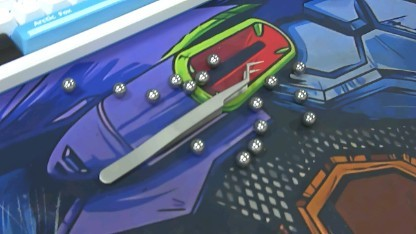ironball: (243, 135, 266, 152), (192, 65, 212, 84), (189, 133, 205, 156), (233, 150, 251, 170), (58, 74, 78, 92), (300, 108, 317, 127), (261, 73, 280, 90), (144, 86, 161, 104), (293, 84, 309, 103), (249, 118, 268, 133), (182, 76, 197, 94), (203, 53, 222, 66), (291, 59, 306, 74), (250, 94, 266, 108), (167, 72, 180, 89), (112, 81, 126, 96)
